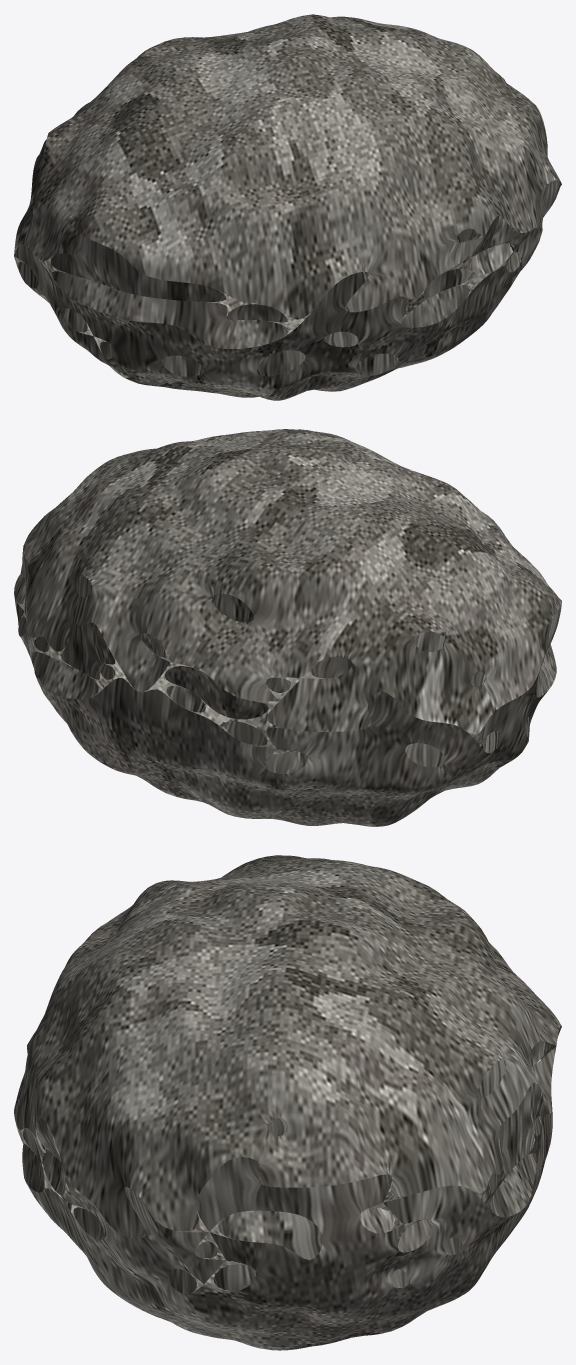
File: rock_largeA.glb
3 views of the same model, one above another, from view 1: azimuth 30°, elevation 25°; view 2: azimuth 150°, elevation 25°; view 3: azimuth 270°, elevation 25° (orthographic). The views are drawn at different scales.
Visible parts, largest first — view 1: Icosphere; view 2: Icosphere; view 3: Icosphere.
Part boxes in pixels (x1,y1,x2,y2): Icosphere: [14, 14, 561, 400]; Icosphere: [14, 429, 561, 826]; Icosphere: [14, 855, 561, 1350].
Size of the model in its own units: 2.82 by 1.87 by 2.27.
1 material, 1 textured.
